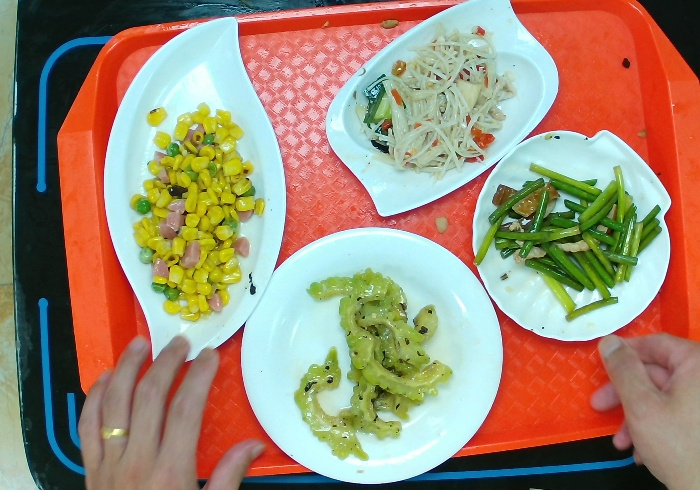RJxy-Bei_Ke_Wan: (463, 119, 677, 349)
RJxy-Jian_Jiao_Fang_Die: (318, 1, 567, 216)
RJxy-Jian_Jiao_Pan: (95, 13, 294, 367)
RJxy-Yuan_Pan: (231, 225, 504, 490)
